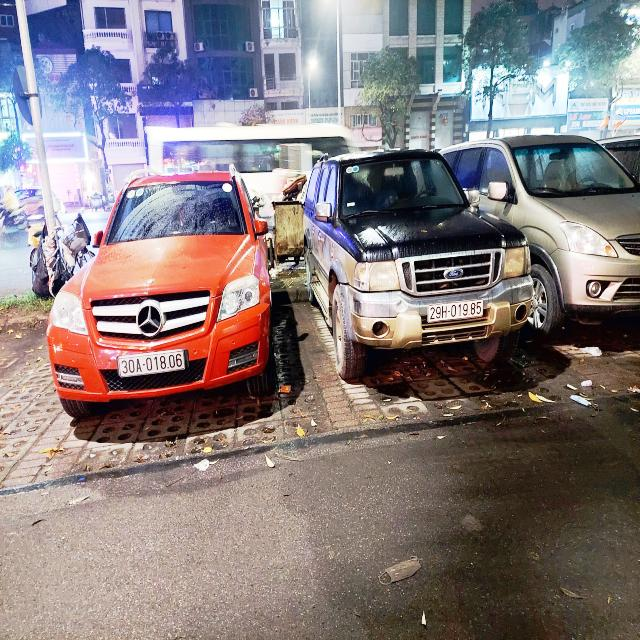license_plate: (117, 349, 188, 380), (428, 300, 485, 324)
